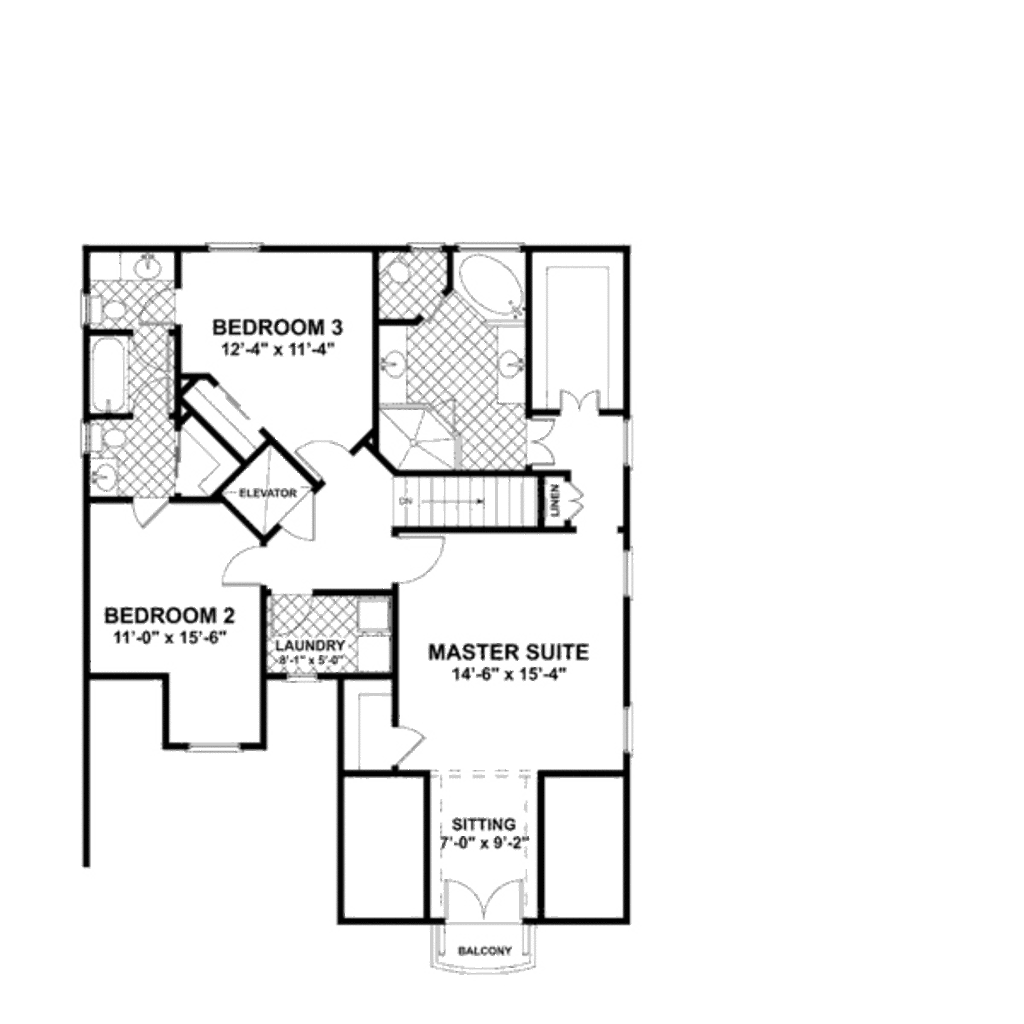door: (438, 871, 534, 927), (280, 421, 358, 485), (209, 536, 273, 589), (395, 532, 452, 586), (138, 277, 191, 333), (123, 494, 186, 533), (261, 596, 314, 638), (517, 413, 561, 463), (547, 386, 616, 417), (558, 469, 591, 530), (284, 497, 320, 546), (391, 727, 427, 767)
large_sink: (367, 239, 423, 300), (80, 286, 131, 324), (86, 425, 138, 450)
small_sink: (373, 327, 413, 402), (497, 319, 528, 400), (117, 242, 178, 282), (83, 452, 131, 499)
stairs: (378, 461, 550, 533)
tub: (438, 239, 536, 324), (86, 335, 142, 421)
window: (609, 535, 644, 605), (192, 228, 286, 253), (620, 414, 645, 475), (613, 705, 642, 747), (183, 739, 247, 753)
